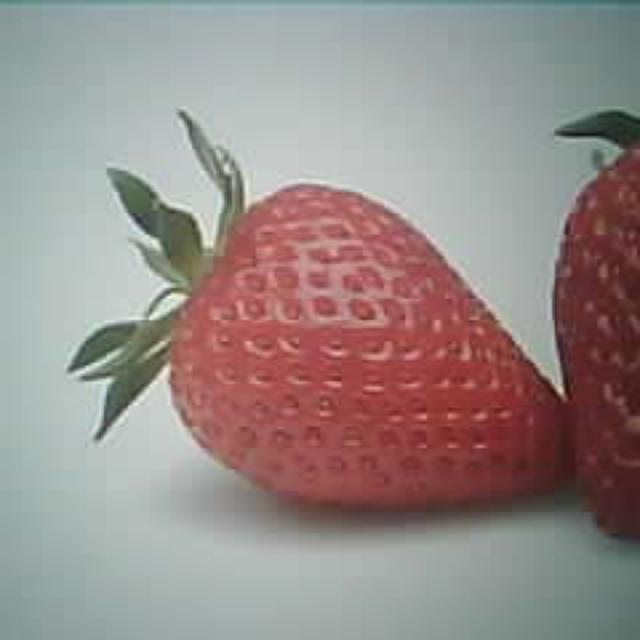strawberry: (172, 182, 564, 504)
